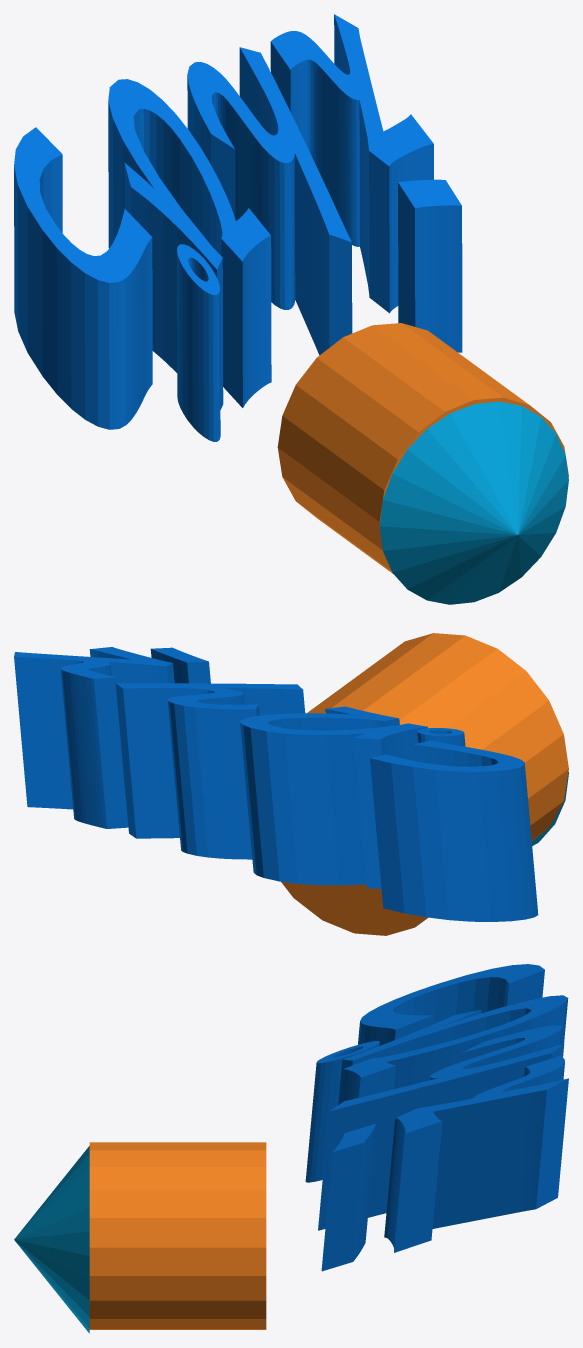
File: tinker.obj
3 renders of one model, top to bottom at view 1: azimuth 30°, elevation 25°; view 2: azimuth 150°, elevation 25°; view 3: azimuth 270°, elevation 25°, orthographic. The views are drawn at different scales.
Visible parts, largest first — view 1: group_0_30433, group_0_40919, group_0_16089887; view 2: group_0_30433, group_0_16089887; view 3: group_0_30433, group_0_16089887, group_0_40919.
Boxes of the visible parts, x1=… form: group_0_30433: x1=14, y1=14, x2=462, y2=441; group_0_40919: x1=379, y1=401, x2=568, y2=604; group_0_16089887: x1=277, y1=323, x2=568, y2=574; group_0_30433: x1=14, y1=647, x2=538, y2=921; group_0_16089887: x1=281, y1=633, x2=568, y2=935; group_0_30433: x1=305, y1=964, x2=568, y2=1271; group_0_16089887: x1=89, y1=1142, x2=266, y2=1329; group_0_40919: x1=14, y1=1146, x2=89, y2=1333.
Size of the model in its own units: 30.54 by 26.66 by 44.
